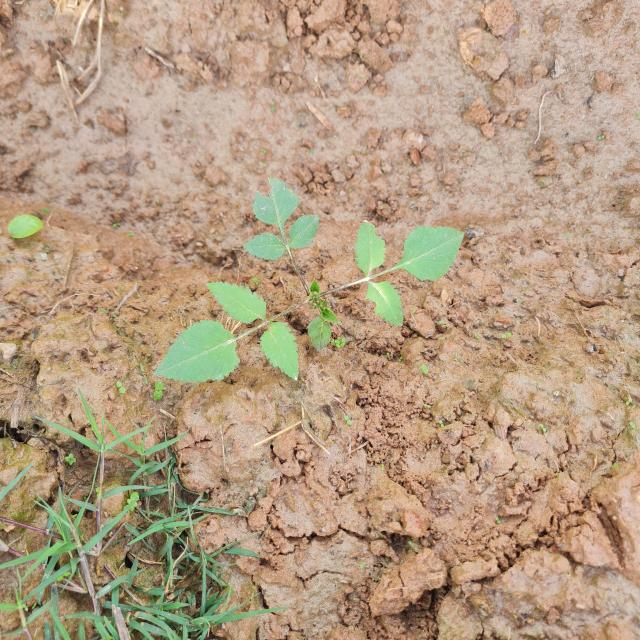weed: (138, 148, 512, 396), (0, 396, 254, 640)
